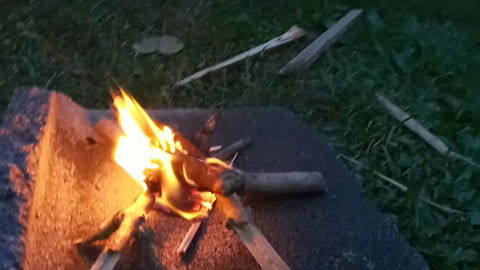fire: (102, 85, 230, 219)
